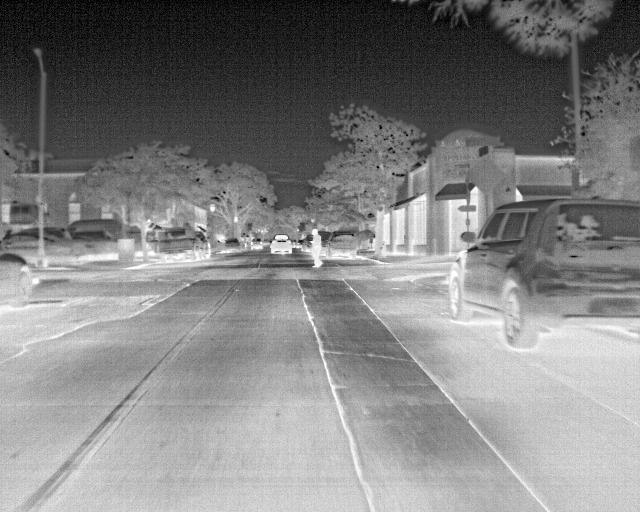bicycle: (448, 195, 639, 347), (1, 253, 35, 306), (157, 226, 209, 260), (2, 232, 38, 262), (43, 236, 76, 267), (65, 217, 119, 235), (328, 228, 356, 256), (269, 234, 293, 256), (128, 226, 143, 252), (221, 237, 239, 255)
empty: (306, 227, 324, 267)
